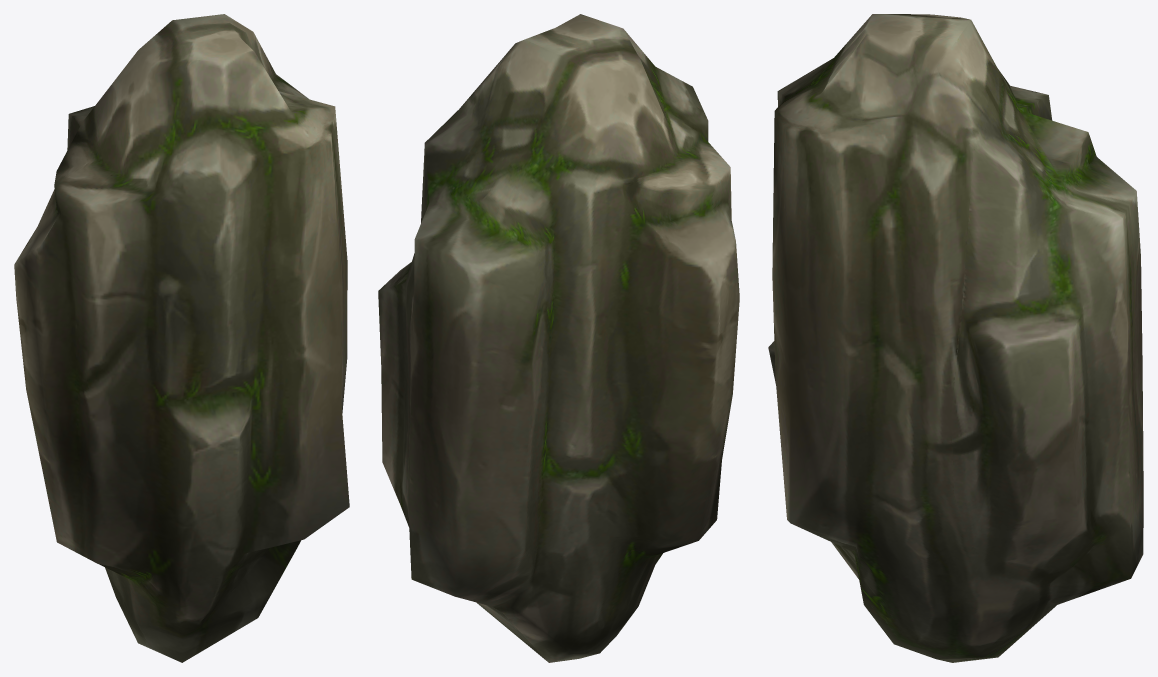
The model's file is RockFormation_4_2 (60).fbx.
The picture shows the model from 3 angles, left to right: view 1: azimuth 30°, elevation 25°; view 2: azimuth 150°, elevation 25°; view 3: azimuth 270°, elevation 25°; orthographic projection. The views are drawn at different scales.
Parts seen in each view (by area): view 1: RockFormation_4_2 (60); view 2: RockFormation_4_2 (60); view 3: RockFormation_4_2 (60).
Boxes of the visible parts, x1,y1,x2,y2 form: RockFormation_4_2 (60): [14, 14, 349, 662]; RockFormation_4_2 (60): [378, 14, 739, 662]; RockFormation_4_2 (60): [768, 14, 1143, 662].
Bounding box in the file's own units: 253 × 489 × 256.
